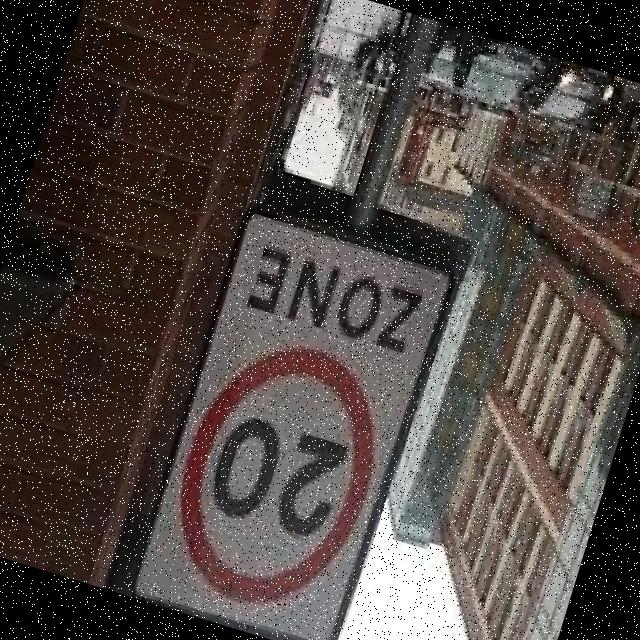speed_limit_20: (148, 323, 406, 632)
